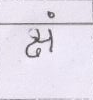anusvara: (48, 12, 55, 18)
